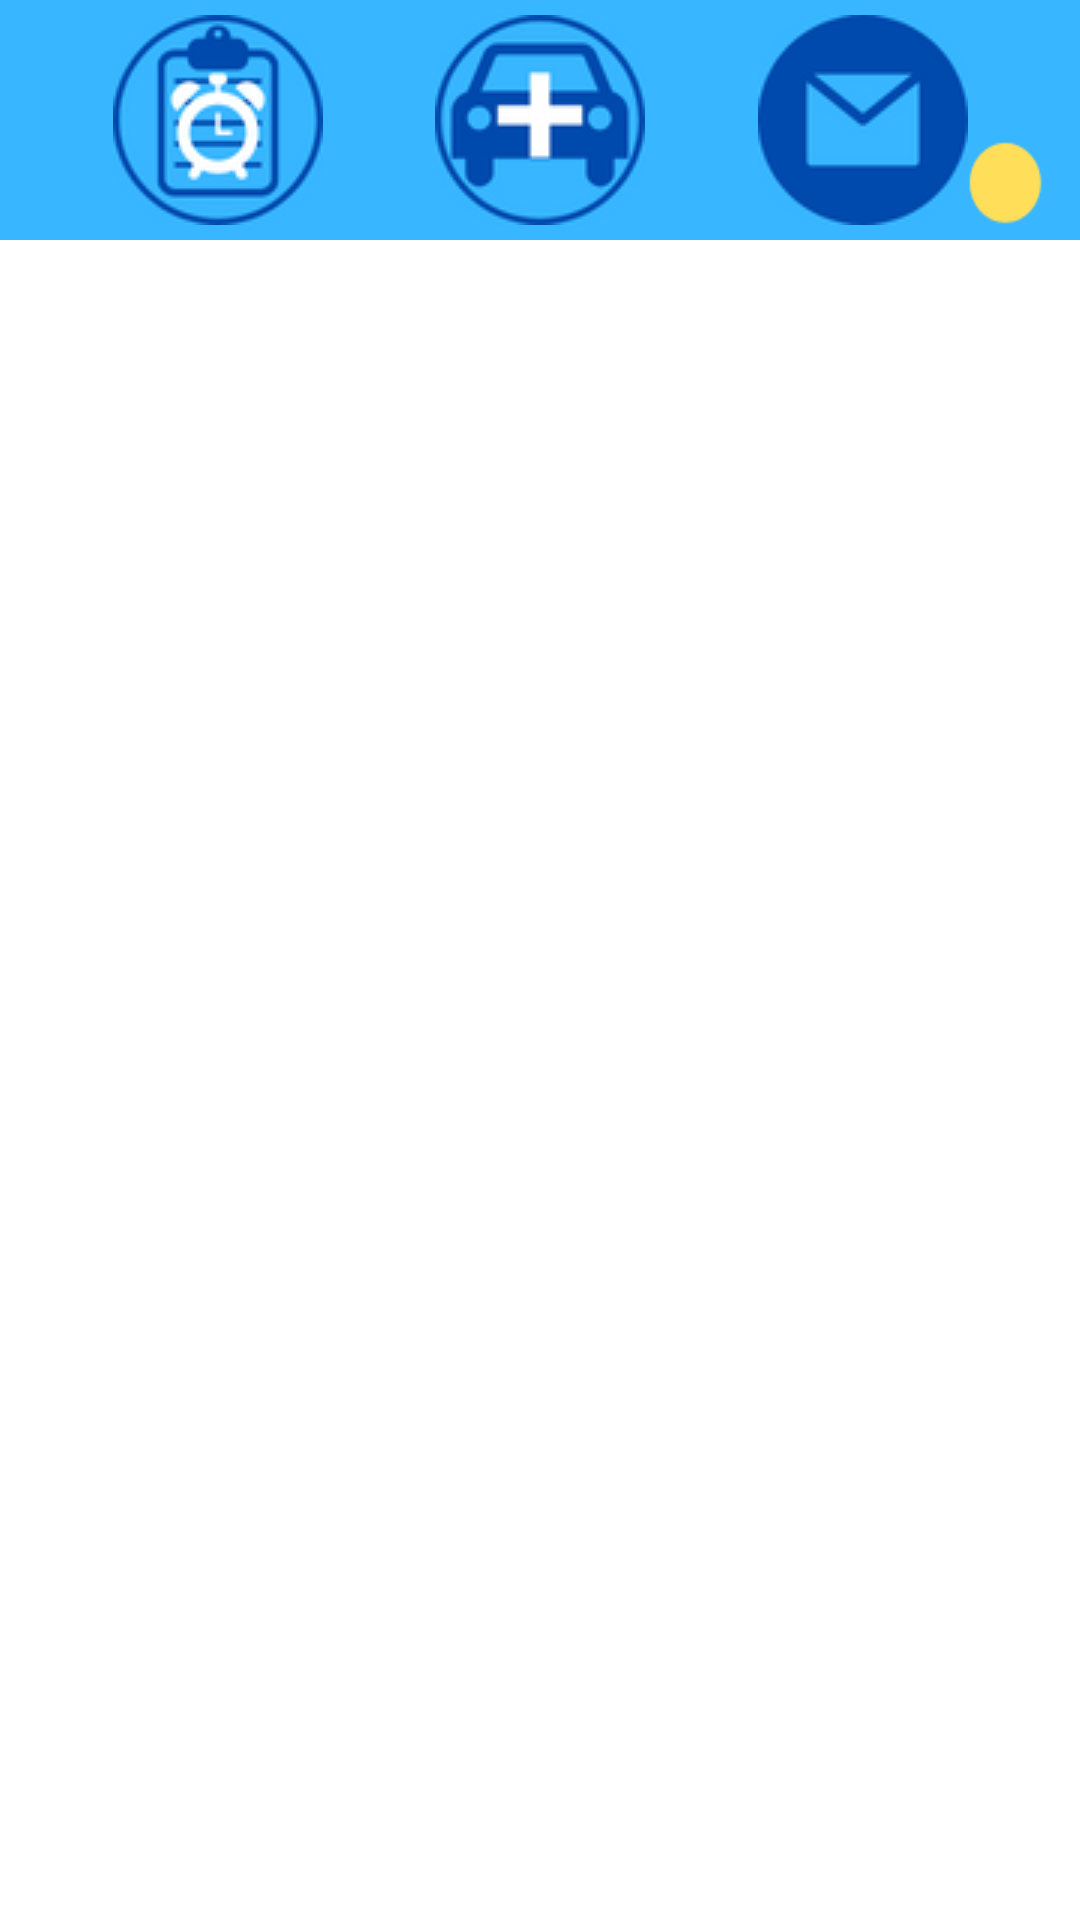

Screen size 1080 x 1920. Icon name, then its box in pixels as (x1, y1, x2, y2):
Botón mantenimientos programados: (113, 15, 323, 225)
Botón mensajes: (758, 15, 968, 225)
Botón nuevo vehículo: (435, 15, 645, 225)
